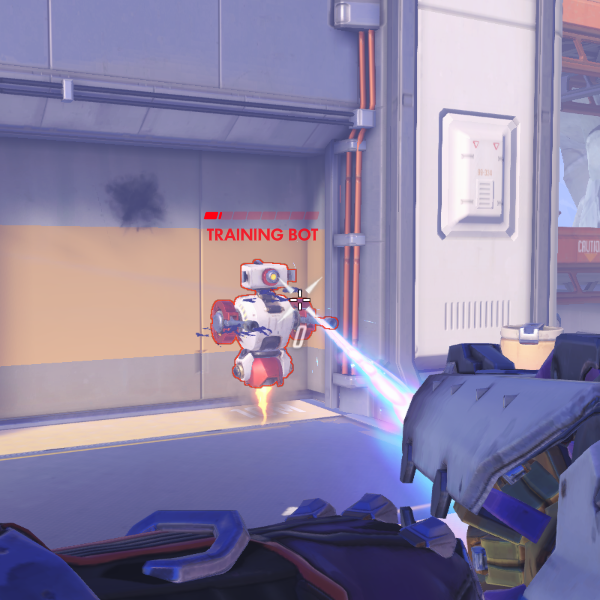hpbar: (203, 211, 320, 220)
